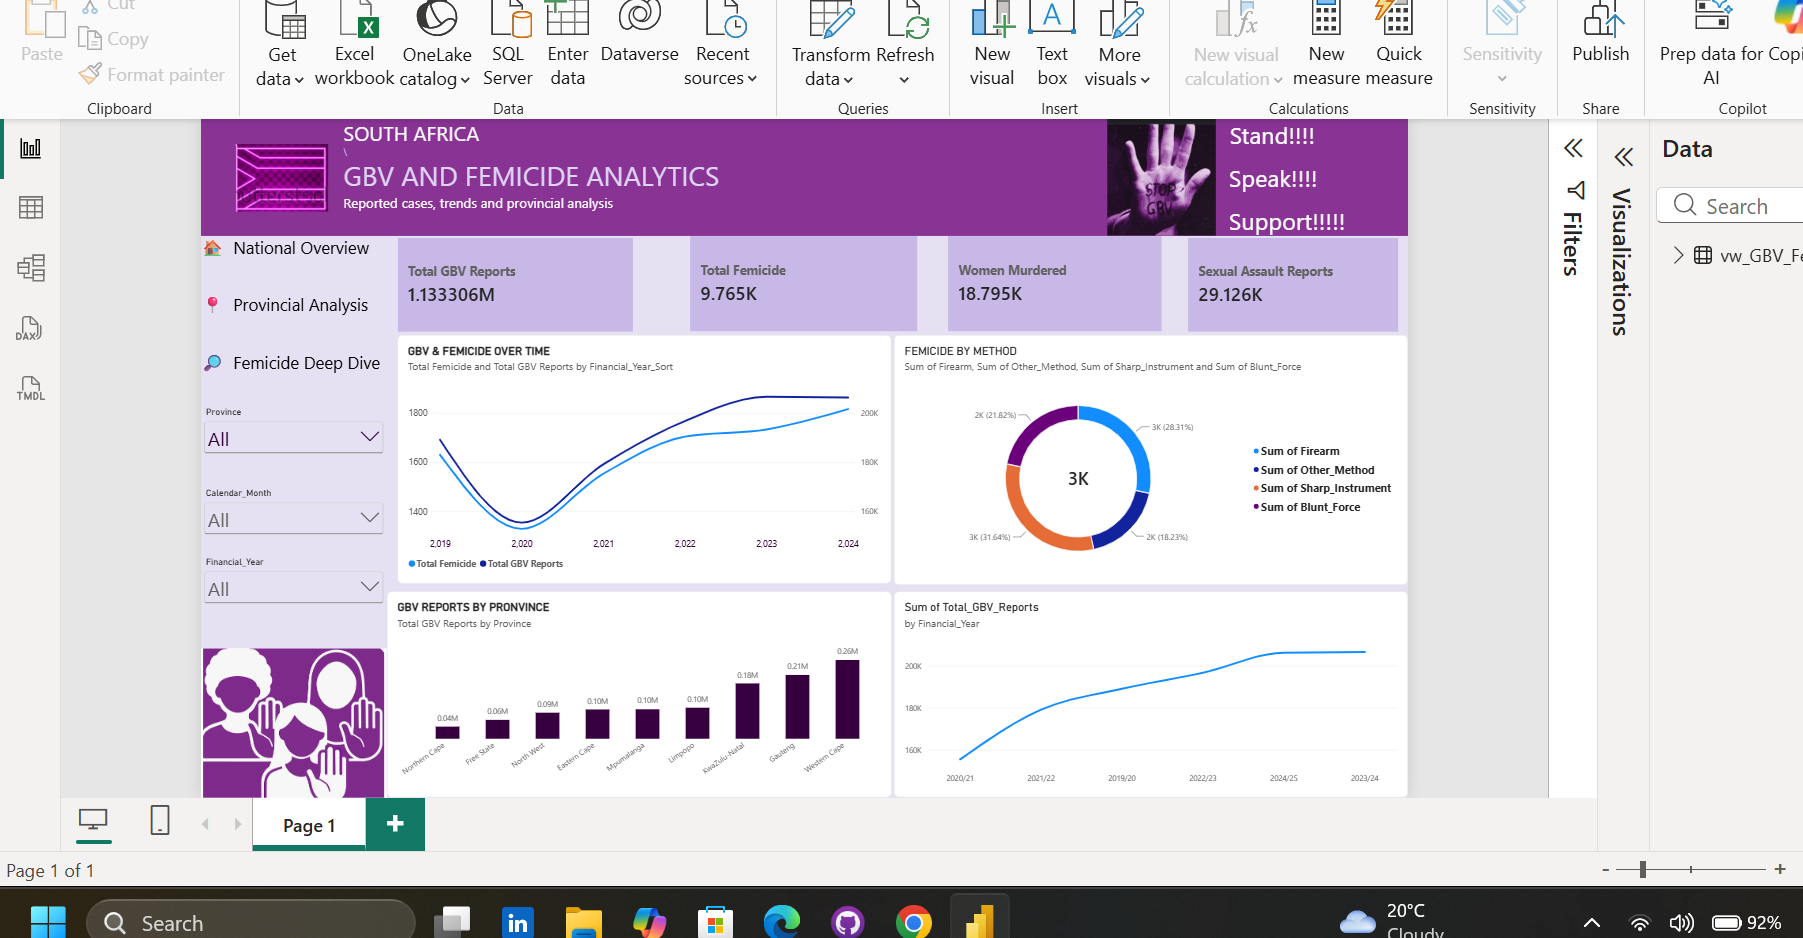

What the dashboard file says about the page in this screenshot:
{"tool":"powerbi","page":{"name":"Page 1","canvas":[1920,1080],"ordinal":0},"visuals":[{"type":"lineChart","fields":{"Category":["vw_GBV_Femicide_Analytics.Financial_Year"],"Y":["Sum(vw_GBV_Femicide_Analytics.Total_GBV_Reports)"]},"box":[1102.5,752.5,817.5,327.5],"z":0},{"type":"lineChart","title":"GBV & FEMICIDE OVER TIME","fields":{"Y":["vw_GBV_Femicide_Analytics.Total Femicide"],"Y2":["vw_GBV_Femicide_Analytics.Total GBV Reports"],"Category":["vw_GBV_Femicide_Analytics.Financial_Year_Sort"]},"box":[312.5,342.5,785,395],"z":1000},{"type":"clusteredColumnChart","title":" GBV REPORTS BY PRONVINCE","fields":{"Category":["vw_GBV_Femicide_Analytics.Province"],"Y":["vw_GBV_Femicide_Analytics.Total GBV Reports"]},"box":[295,752.5,802.5,327.5],"z":2000},{"type":"slicer","fields":{"Values":["vw_GBV_Femicide_Analytics.Province"]},"box":[0,457.5,295,82.5],"z":3000},{"type":"slicer","fields":{"Values":["vw_GBV_Femicide_Analytics.Calendar_Month"]},"box":[0,587.5,295,110],"z":4000},{"type":"cardVisual","fields":{"Data":["vw_GBV_Femicide_Analytics.Total Femicide"]},"box":[777.5,185,362.5,152.5],"z":5000},{"type":"cardVisual","fields":{"Data":["vw_GBV_Femicide_Analytics.Total GBV Reports"]},"box":[312.5,187.5,375,150],"z":6000},{"type":"cardVisual","fields":{"Data":["vw_GBV_Femicide_Analytics.Women Murdered"]},"box":[1187.5,185,340,152.5],"z":7000},{"type":"cardVisual","fields":{"Data":["vw_GBV_Femicide_Analytics.Sexual Assault Reports"]},"box":[1570,187.5,335,150],"z":8000},{"type":"shape","box":[0,0,1920.7,186.1],"z":9000},{"type":"textbox","box":[227.5,0,770,185],"z":10000},{"type":"textbox","box":[1214.4,0,379.4,186.1],"z":11000},{"type":"textbox","box":[1624.8,0,295.9,186.1],"z":12000},{"type":"textbox","box":[0,185,295,237.5],"z":13000},{"type":"donutChart","title":"FEMICIDE BY METHOD","fields":{"Y":["Sum(vw_GBV_Femicide_Analytics.Firearm)","Sum(vw_GBV_Femicide_Analytics.Other_Method)","Sum(vw_GBV_Femicide_Analytics.Sharp_Instrument)","Sum(vw_GBV_Femicide_Analytics.Blunt_Force)"]},"box":[1102.5,342.5,817.5,397.5],"z":14000},{"type":"textbox","box":[0,842.5,295,237.5],"z":16000},{"type":"slicer","fields":{"Values":["vw_GBV_Femicide_Analytics.Financial_Year"]},"box":[0,697.5,295,110],"z":17000},{"type":"image","box":[0,842.5,295,237.5],"z":17001},{"type":"image","box":[55,27.5,147.5,130],"z":17002},{"type":"image","box":[1323.3,0,407.5,185],"z":17003}]}

Visuals, with their boxes in screenshot pixels (x1, y1, x2, y2):
lineChart - vw_GBV_Femicide_Analytics.Financial_Year x Sum(vw_GBV_Femicide_Analytics.Total_GBV_Reports): [left=1143, top=603, right=1802, bottom=884]
"GBV & FEMICIDE OVER TIME" lineChart: [left=465, top=251, right=1138, bottom=590]
" GBV REPORTS BY PRONVINCE" clusteredColumnChart: [left=450, top=603, right=1138, bottom=884]
slicer - vw_GBV_Femicide_Analytics.Province: [left=197, top=350, right=450, bottom=421]
slicer - vw_GBV_Femicide_Analytics.Calendar_Month: [left=197, top=462, right=450, bottom=556]
cardVisual - vw_GBV_Femicide_Analytics.Total Femicide: [left=864, top=116, right=1175, bottom=247]
cardVisual - vw_GBV_Femicide_Analytics.Total GBV Reports: [left=465, top=119, right=787, bottom=247]
cardVisual - vw_GBV_Femicide_Analytics.Women Murdered: [left=1215, top=116, right=1507, bottom=247]
cardVisual - vw_GBV_Femicide_Analytics.Sexual Assault Reports: [left=1543, top=119, right=1802, bottom=247]
shape: [left=197, top=0, right=1802, bottom=117]
textbox: [left=392, top=0, right=1053, bottom=116]
textbox: [left=1239, top=0, right=1564, bottom=117]
textbox: [left=1590, top=0, right=1802, bottom=117]
textbox: [left=197, top=116, right=450, bottom=320]
"FEMICIDE BY METHOD" donutChart: [left=1143, top=251, right=1802, bottom=592]
textbox: [left=197, top=680, right=450, bottom=884]
slicer - vw_GBV_Femicide_Analytics.Financial_Year: [left=197, top=556, right=450, bottom=650]
image: [left=197, top=680, right=450, bottom=884]
image: [left=244, top=0, right=371, bottom=93]
image: [left=1332, top=0, right=1681, bottom=116]
